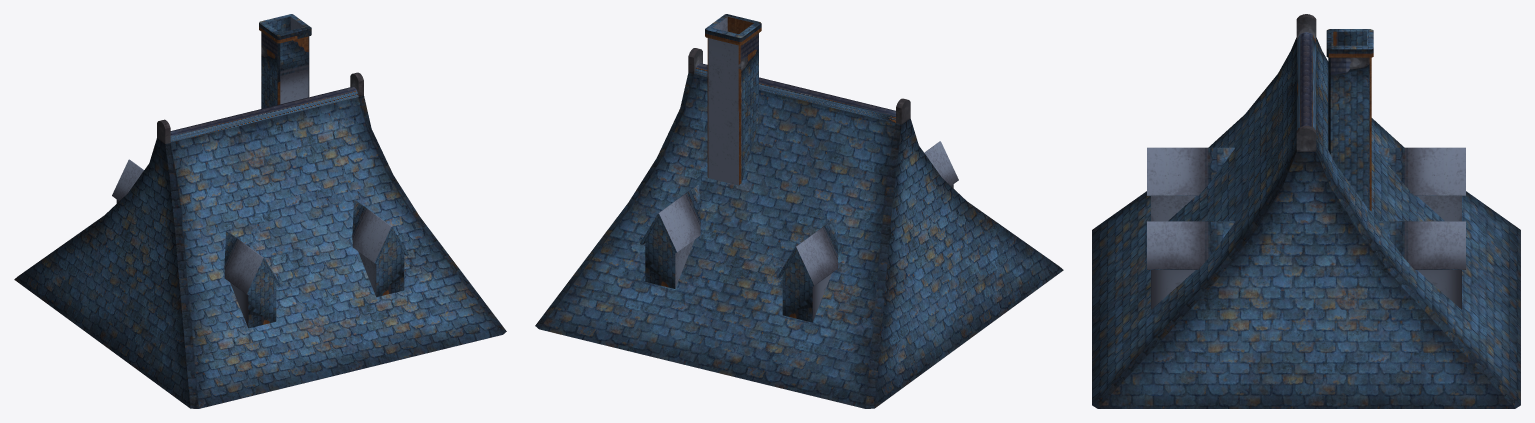
Rendered from sb_obj_outdoor002_DemonsCastle01_roof02_col.fbx.
3 views of the same model, side by side, from view 1: azimuth 30°, elevation 25°; view 2: azimuth 150°, elevation 25°; view 3: azimuth 270°, elevation 25° (orthographic). The views are drawn at different scales.
Parts seen in each view (by area): view 1: sb_obj_outdoor002_DemonsCastle01_roof02_col; view 2: sb_obj_outdoor002_DemonsCastle01_roof02_col; view 3: sb_obj_outdoor002_DemonsCastle01_roof02_col.
Part boxes in pixels (bbox=[...]): sb_obj_outdoor002_DemonsCastle01_roof02_col: bbox=[14, 14, 506, 408]; sb_obj_outdoor002_DemonsCastle01_roof02_col: bbox=[535, 14, 1063, 408]; sb_obj_outdoor002_DemonsCastle01_roof02_col: bbox=[1092, 14, 1520, 408].
Size of the model in its own units: 9.89 by 7.67 by 9.81.
